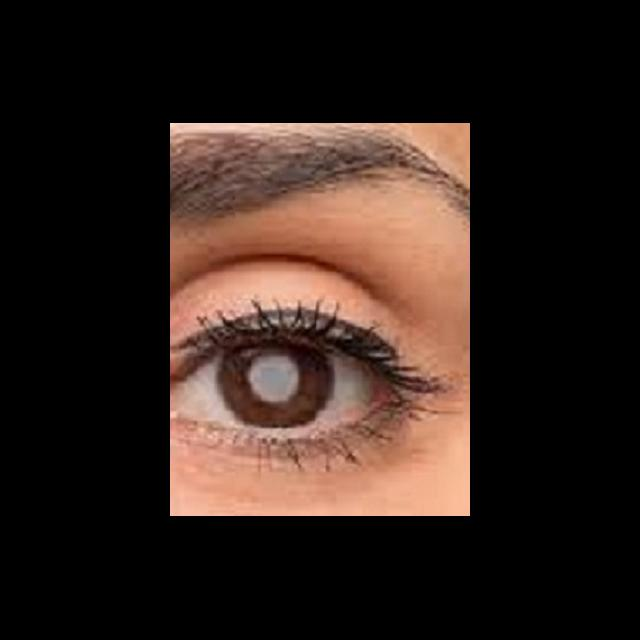eye: (174, 328, 381, 437)
iris: (219, 341, 333, 430)
